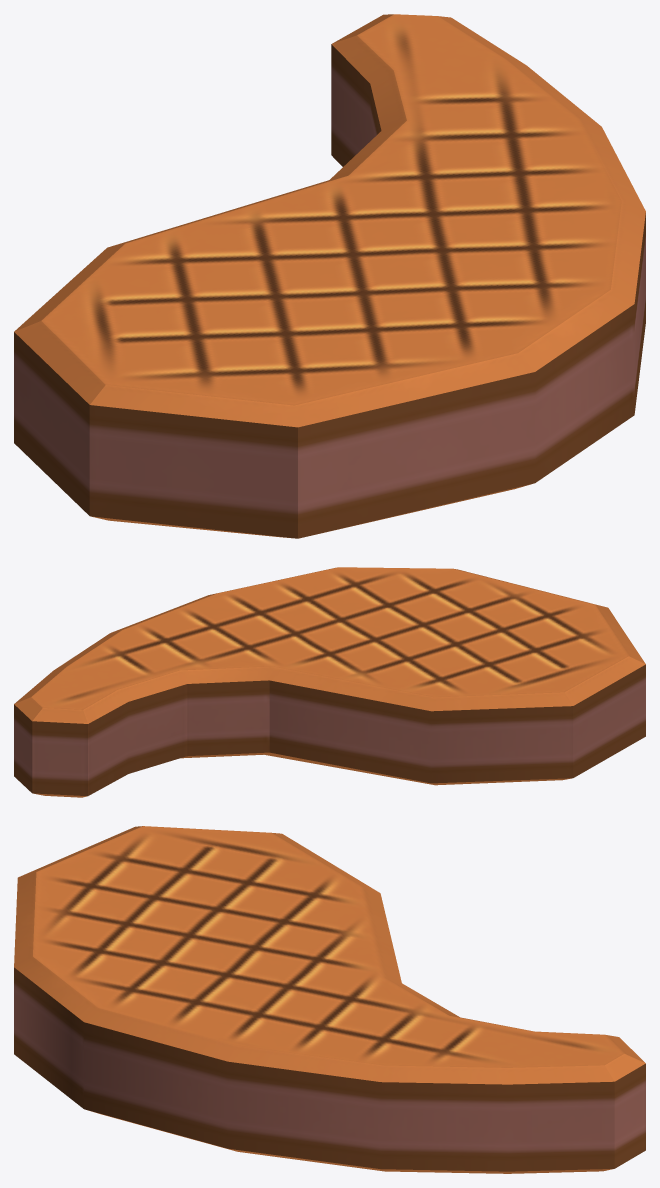
Rendered from steak.fbx.
3 views of the same model, one above another, from view 1: azimuth 30°, elevation 25°; view 2: azimuth 150°, elevation 25°; view 3: azimuth 270°, elevation 25° (orthographic). The views are drawn at different scales.
Parts seen in each view (by area): view 1: Steak; view 2: Steak; view 3: Steak.
Part boxes in pixels (box(x1,y1,x2,y2)): Steak: box(14, 14, 645, 538); Steak: box(14, 567, 645, 797); Steak: box(14, 826, 645, 1173).
Bounding box in the file's own units: 4.9 × 0.9508 × 5.07.
